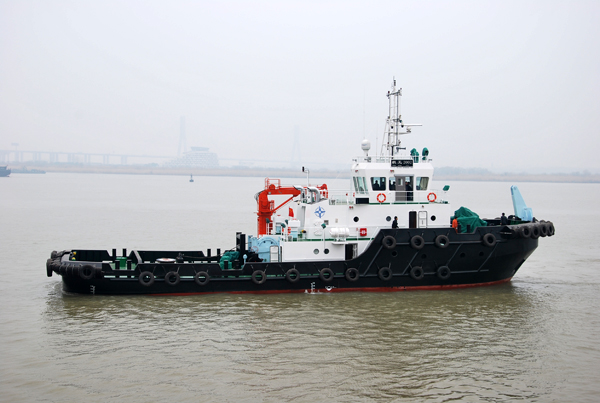otherboat: (37, 73, 553, 299)
